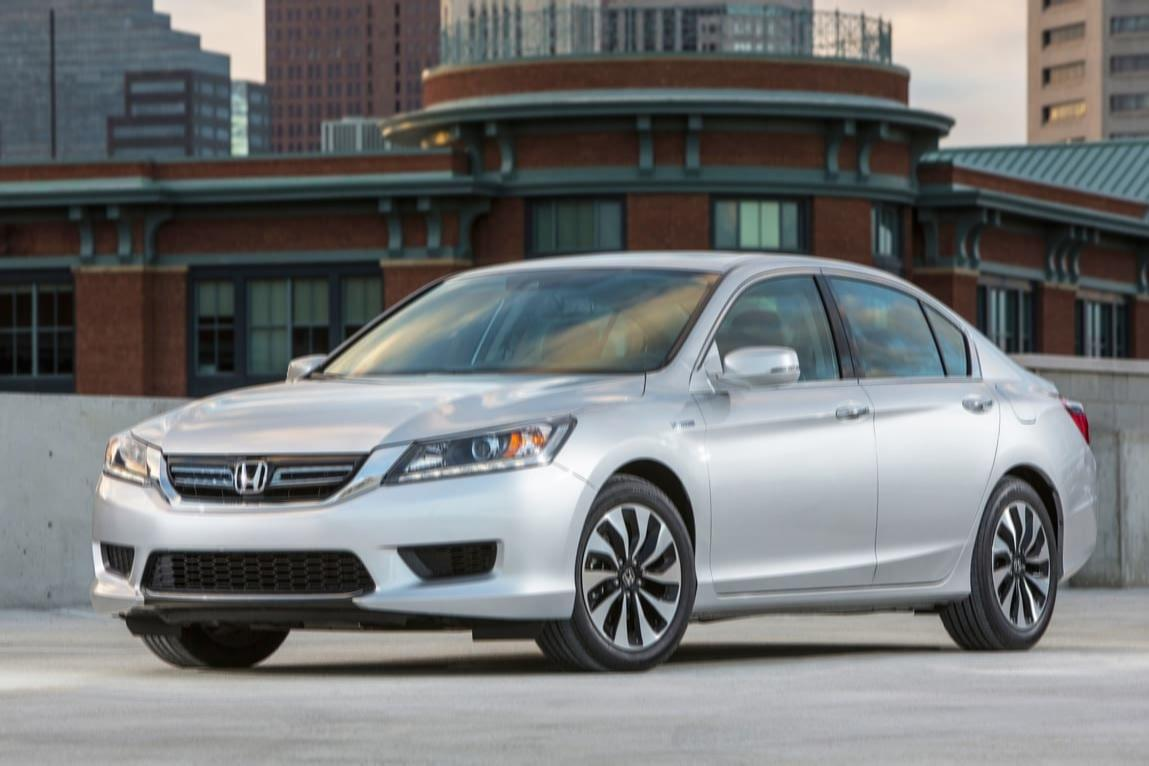Car hood: (124, 372, 650, 454)
Fender - -F-L-: (554, 370, 717, 619)
Fender - -R-L-: (963, 373, 1070, 602)
Front bumper: (75, 465, 606, 632)
Headlight - -L-: (374, 409, 583, 495)
Headlight - -R-: (96, 420, 173, 492)
Passenger-s door - -F-L-: (703, 256, 886, 594)
Passenger-s door - -R-L-: (853, 265, 1006, 586)
Rear bumper: (1063, 473, 1116, 588)
Rear light - -L-: (1049, 377, 1106, 450)
Side bumper - -L-: (684, 570, 990, 624)
Side mirror - -L-: (713, 334, 807, 396)
Side mirror - -R-: (276, 352, 337, 380)
